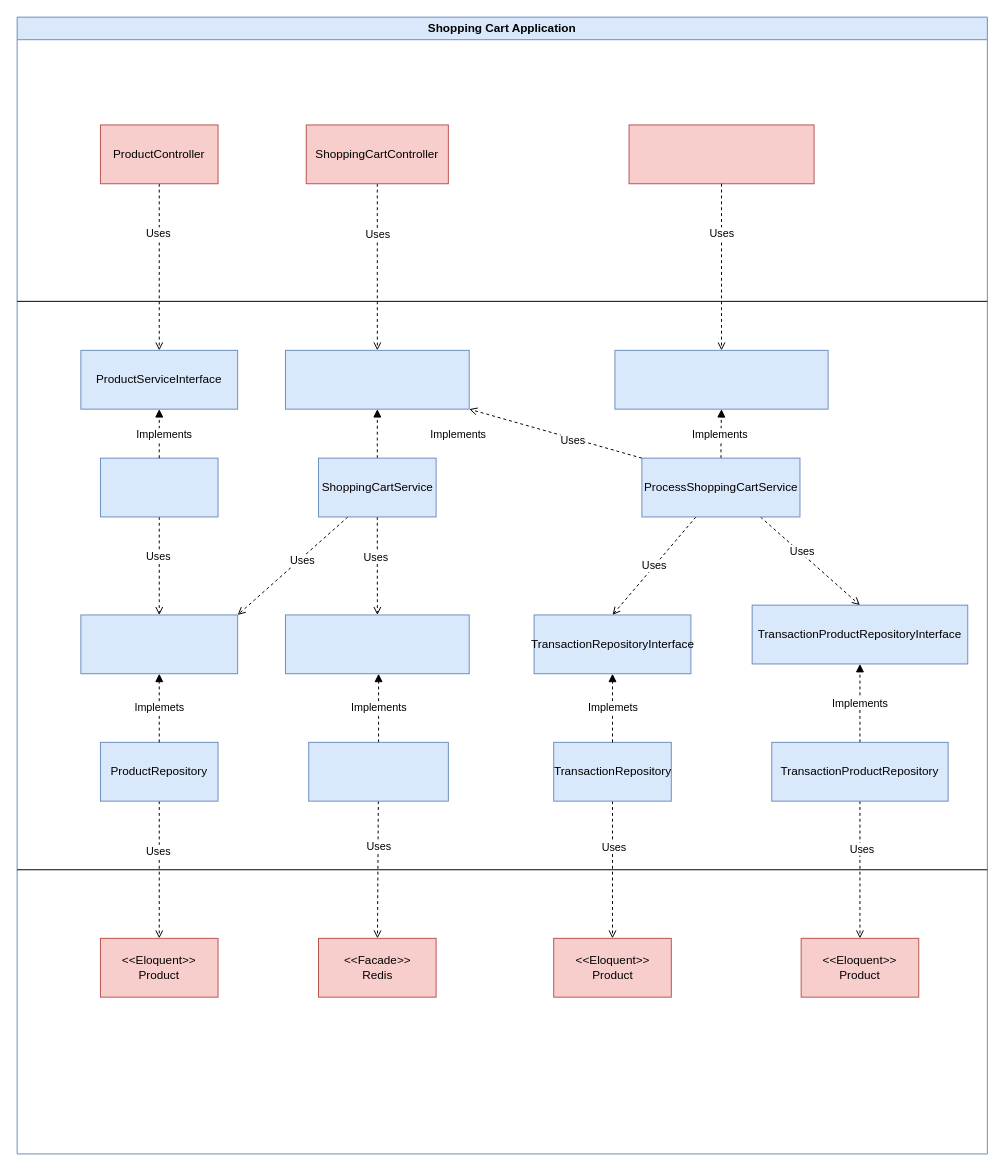
Some shapes in this 1005 by 1171 pixel diagram are drawn without their labels. Each missing label, with the centre of its shape:
ProcessShoppingCartController: (721,154)
ProcessShoppingCartServiceInterface: (721,379)
ProductRepositoryInterface: (159,644)
ProductService: (158,487)
ShoppingCartRepository: (378,771)
ShoppingCartRepositoryInterface: (376,644)
ShoppingCartServiceInterface: (376,379)
